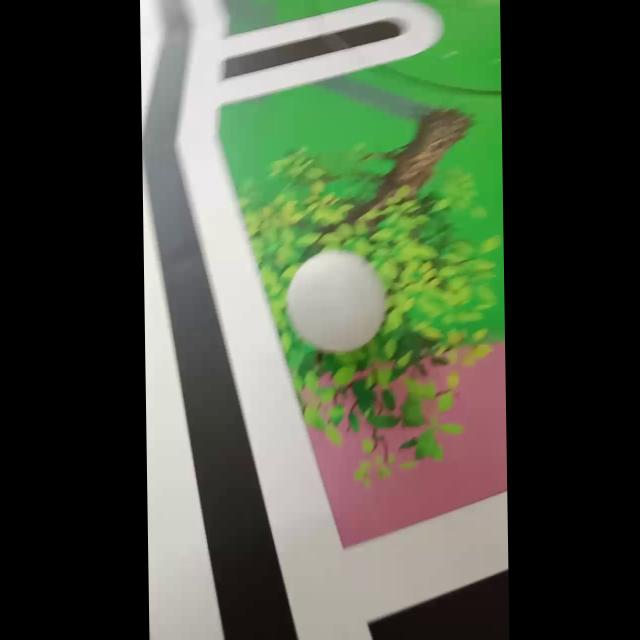white ball: (285, 249, 388, 353)
